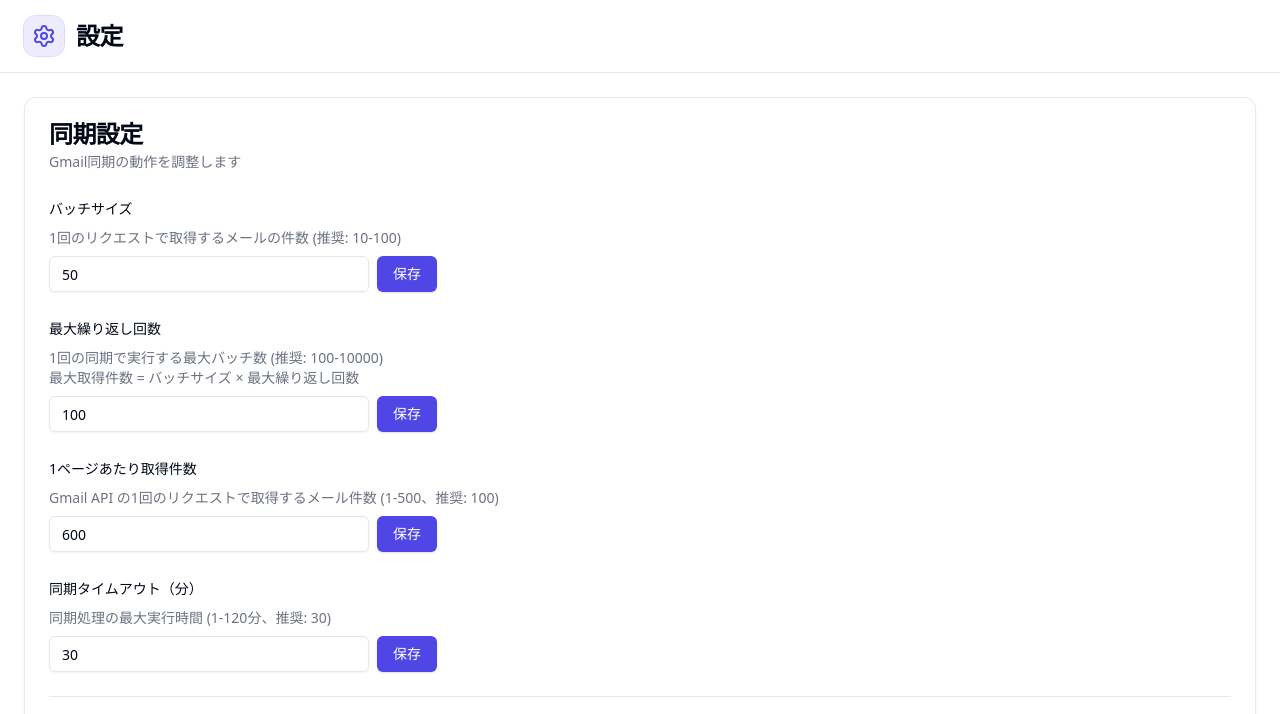
Test: Settings › handleSaveMaxResultsPerPage › shows validation error for out of range max results per page
Expected: the number field with id "max-results-per-page" is shown, [49,516,369,552]
Click the button with aria-label "1ページあたり取得件数を保存": [407, 534] box [377,516,437,552]
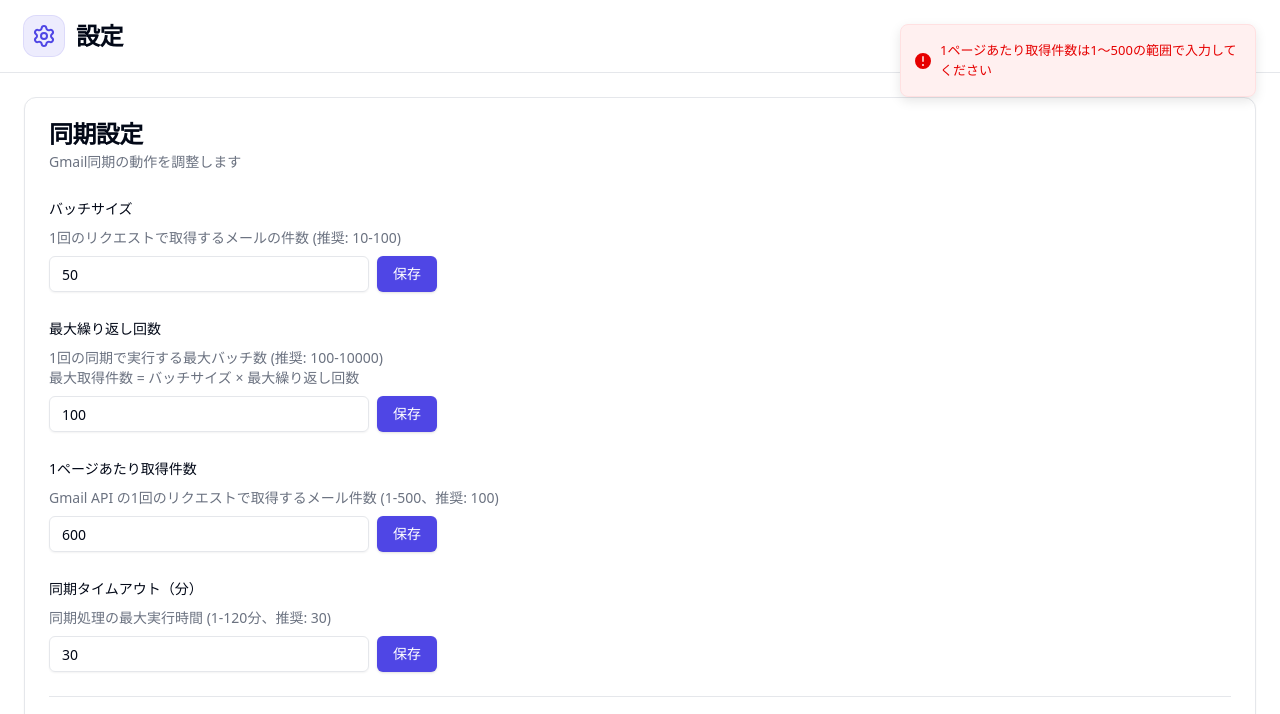
Result: the text "1ページあたり取得件数は1〜500の範囲で入力してください" is shown at [940,41,1239,80]
